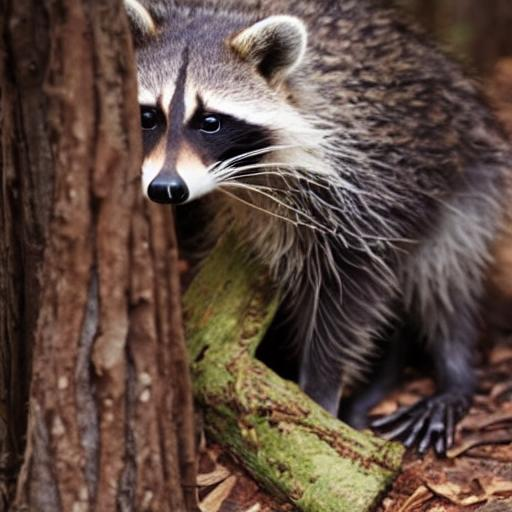raccoon: (118, 0, 512, 384)
